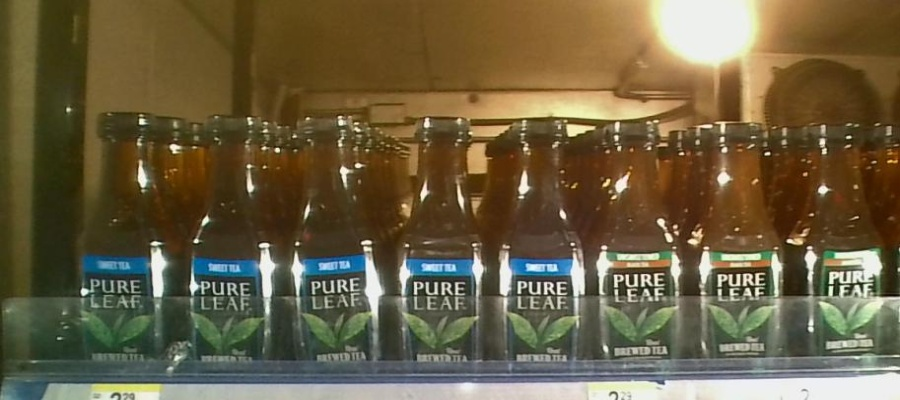bottle: (286, 102, 391, 386), (74, 108, 179, 381), (691, 113, 797, 378), (184, 105, 284, 381), (396, 104, 491, 384), (591, 114, 689, 377), (495, 114, 589, 376), (800, 108, 885, 375)
